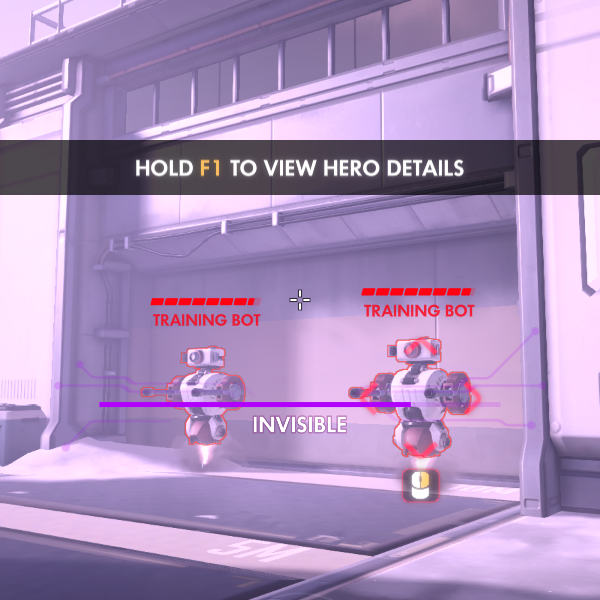hpbar: (360, 287, 477, 297), (150, 297, 262, 306)
